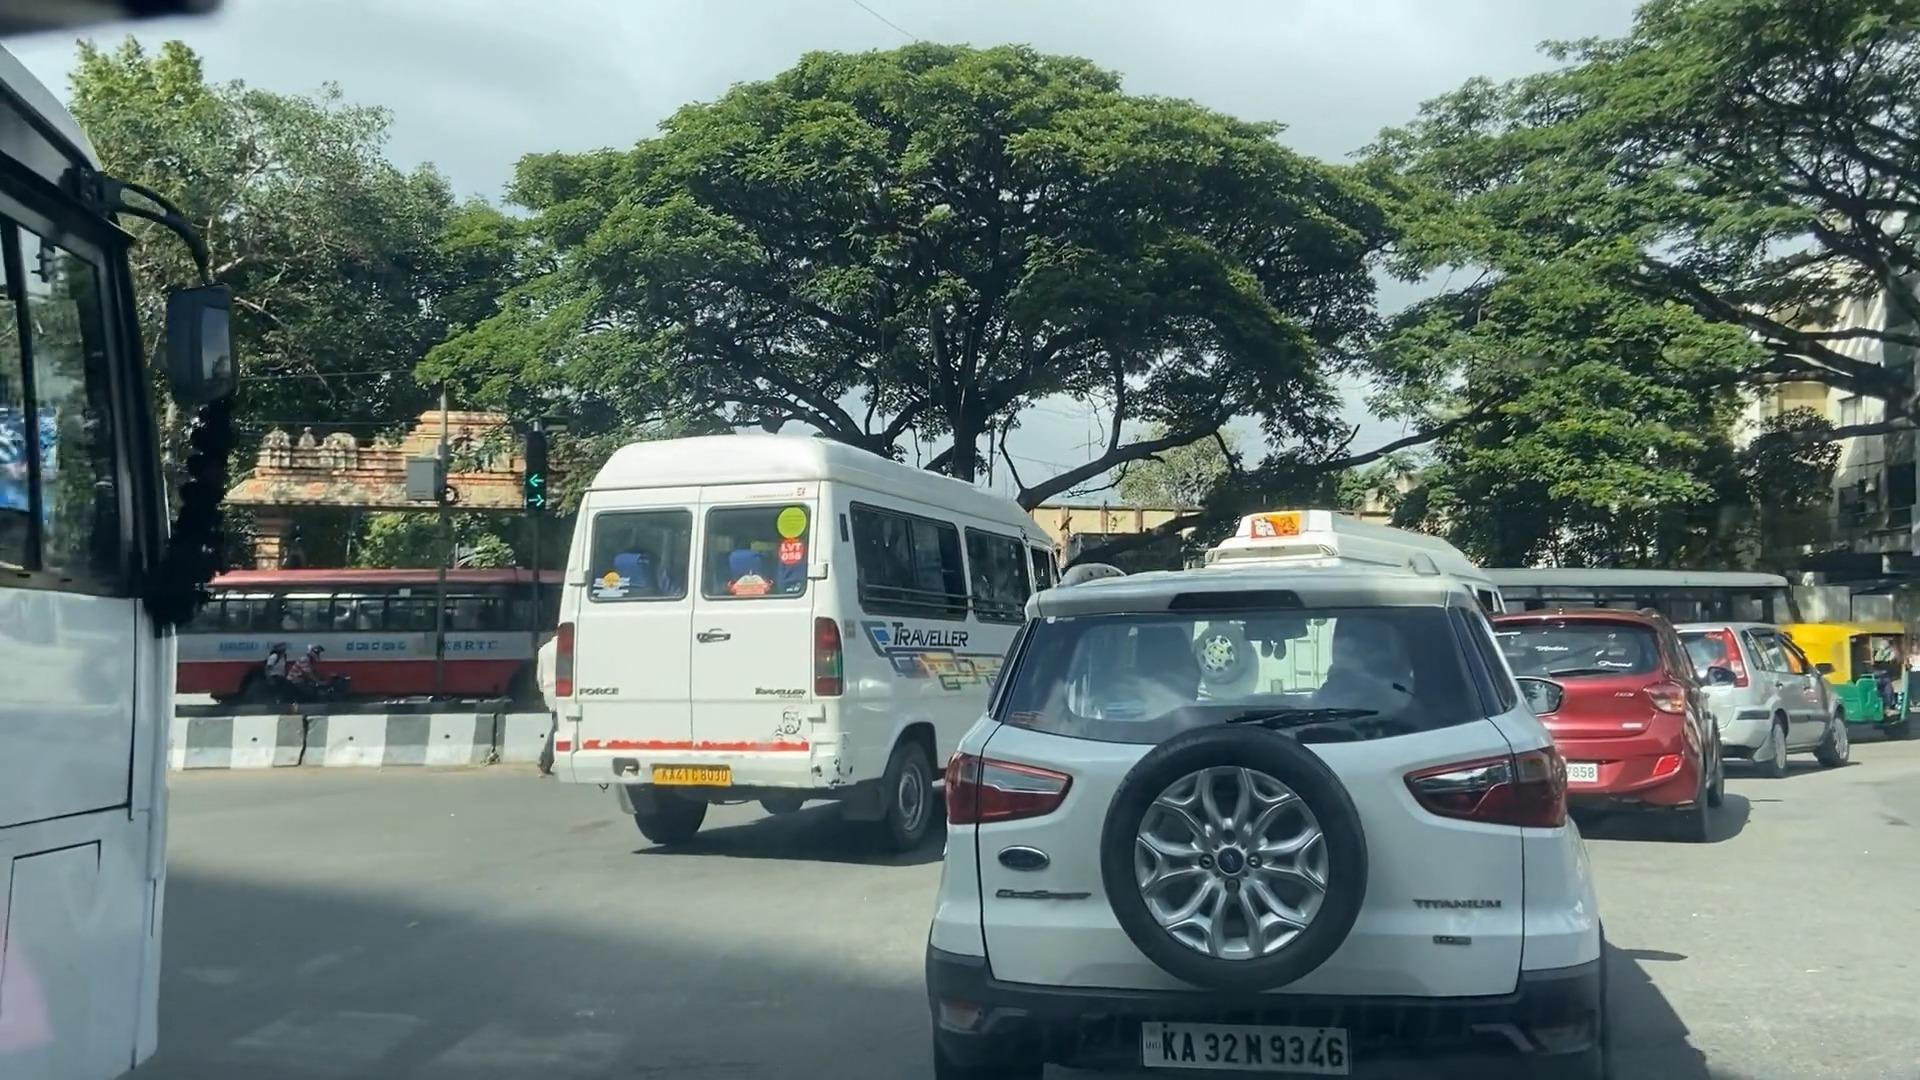HMV: (543, 435, 985, 856)
LMV: (985, 560, 1607, 1080)
RoadDamages: (203, 818, 764, 1080)
